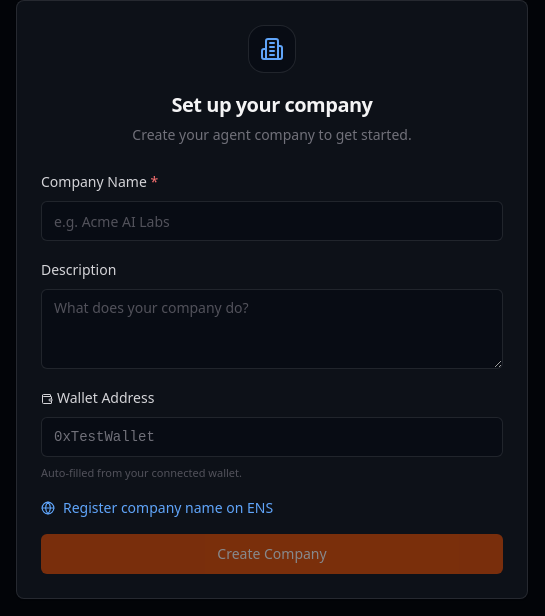
Scenario: CompanySetup › enables submit button when name is filled
Type "My Company" into the field labelled "Company Name *".
click(272, 221); type("My Company")  # box [41, 201, 503, 241]
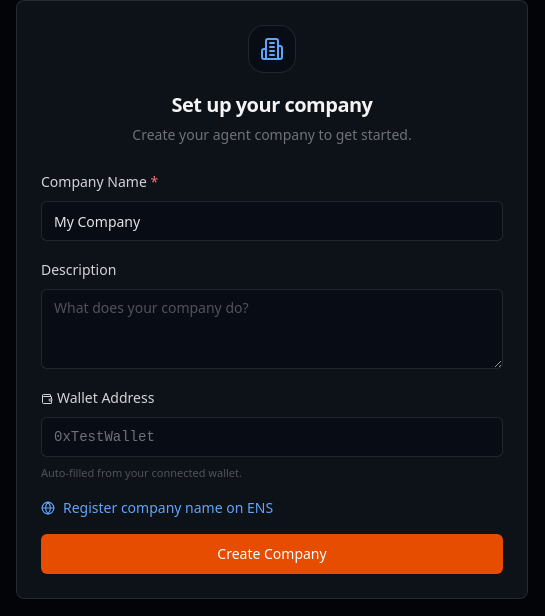
Check: the button "Create Company" is enabled, box [41, 534, 503, 574]
